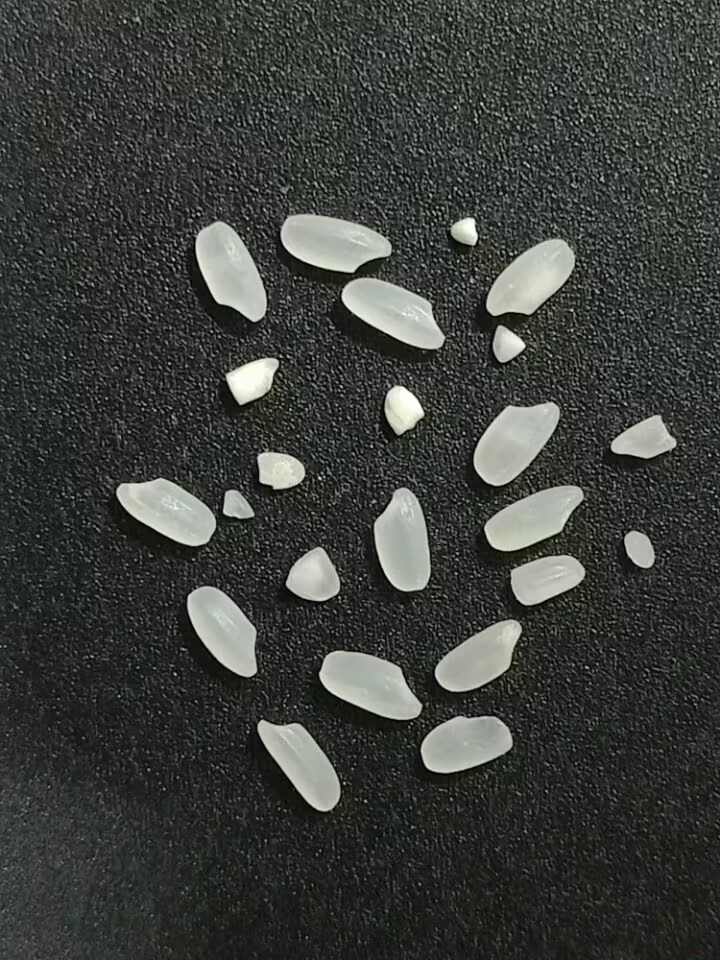broken: (508, 553, 587, 608), (283, 546, 342, 602), (608, 413, 677, 459), (224, 357, 280, 406), (482, 318, 532, 366), (382, 385, 425, 440), (256, 448, 305, 490), (219, 485, 257, 526), (621, 529, 655, 571), (443, 216, 480, 249)
rice: (340, 275, 453, 359), (250, 718, 342, 813), (192, 220, 270, 323), (471, 399, 561, 487), (483, 237, 578, 318), (184, 583, 260, 681), (317, 651, 424, 720), (482, 483, 586, 553), (114, 476, 217, 546), (434, 616, 523, 695), (280, 213, 392, 275), (372, 487, 431, 592), (420, 712, 514, 774)
